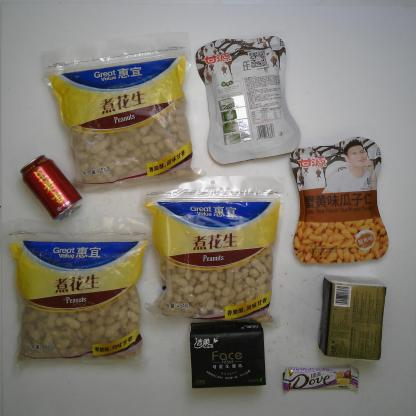Chocolate: (283, 366, 360, 393)
Dried Food: (40, 31, 208, 193), (0, 218, 150, 371), (140, 176, 286, 326)
Dried Fruit: (195, 35, 301, 165), (290, 136, 389, 264)
Drink: (20, 154, 84, 221)
Tissue: (318, 276, 387, 361), (188, 321, 266, 389)
